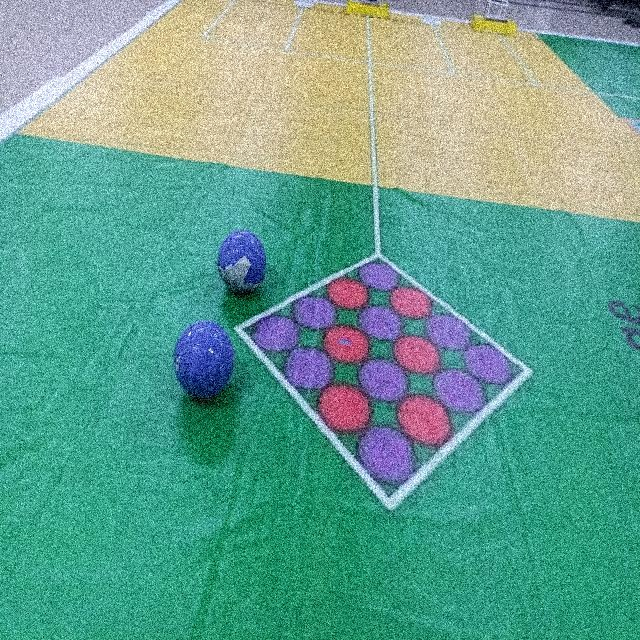purple_ball: (172, 318, 235, 404), (215, 228, 269, 296)
